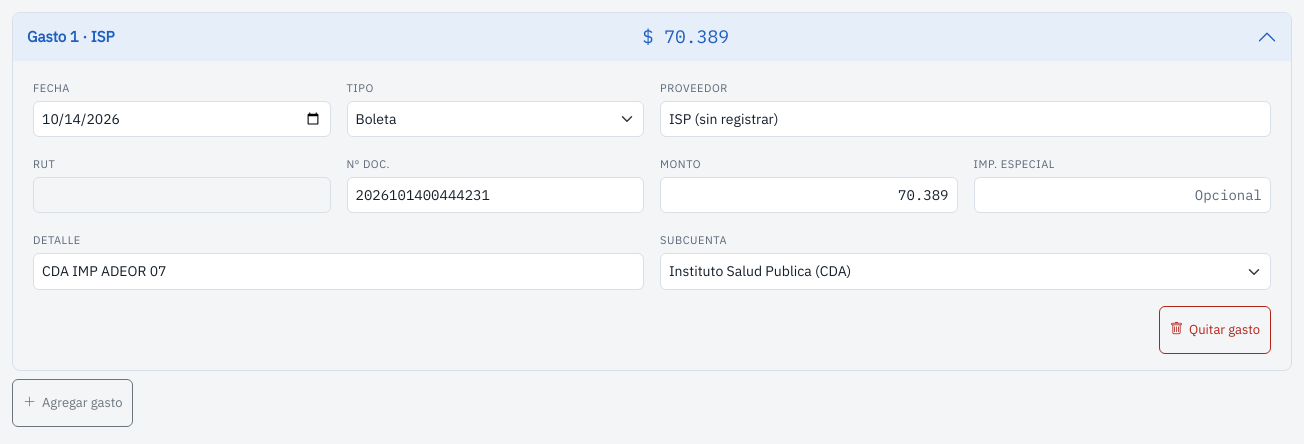
LineasGastos › proveedor › lista los activos ordenados, busca por RUT y al elegir completa nombre y RUT
Focus the dropdown named "Proveedor gasto 1" at (966, 119), box [660,101,1271,137]
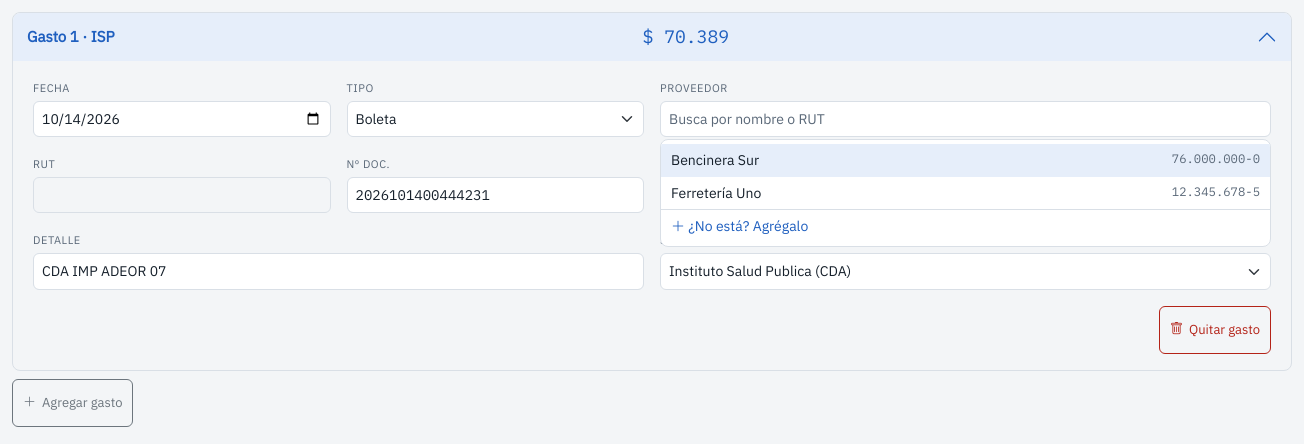
Result: the dropdown named "Proveedor gasto 1" is expanded
Type "12.345" into the dropdown named "Proveedor gasto 1" at (966, 119), box [660,101,1271,137]
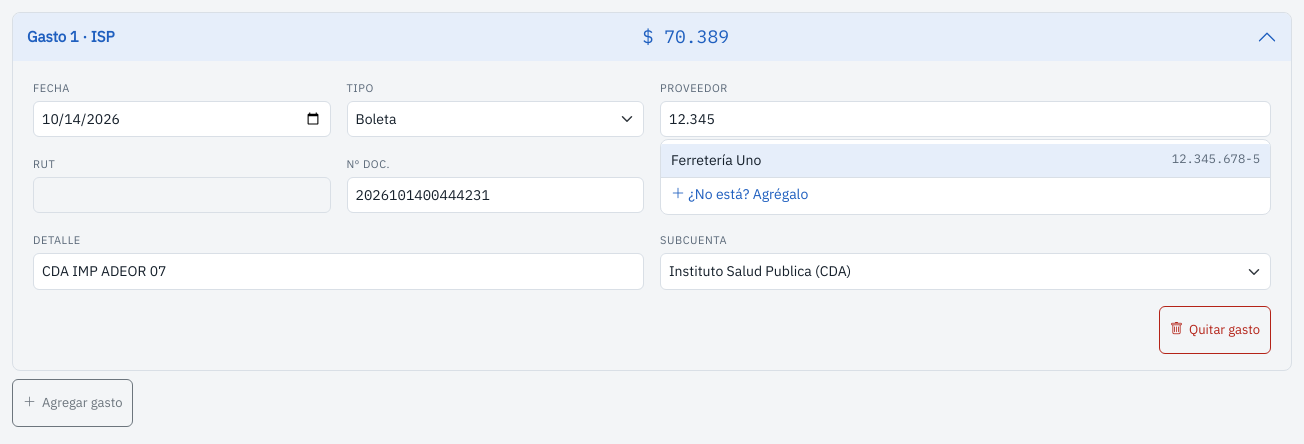
Press the mouse on the option "Ferretería Uno 12.345.678-5" at (716, 160), box [661,144,1270,176]
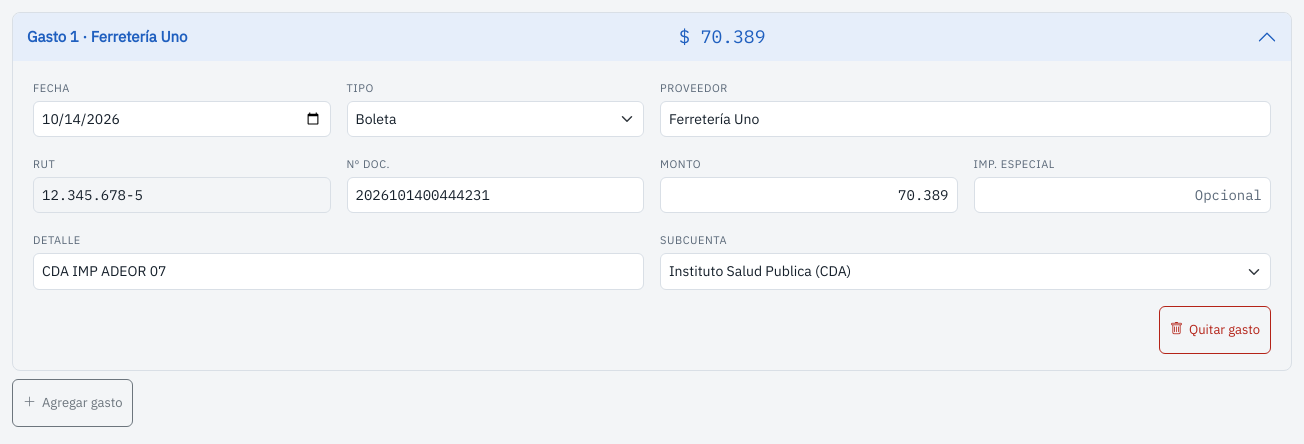
Result: the field named "RUT gasto 1" holds "12.345.678-5" at [33,177,330,214]
Result: the list is gone
